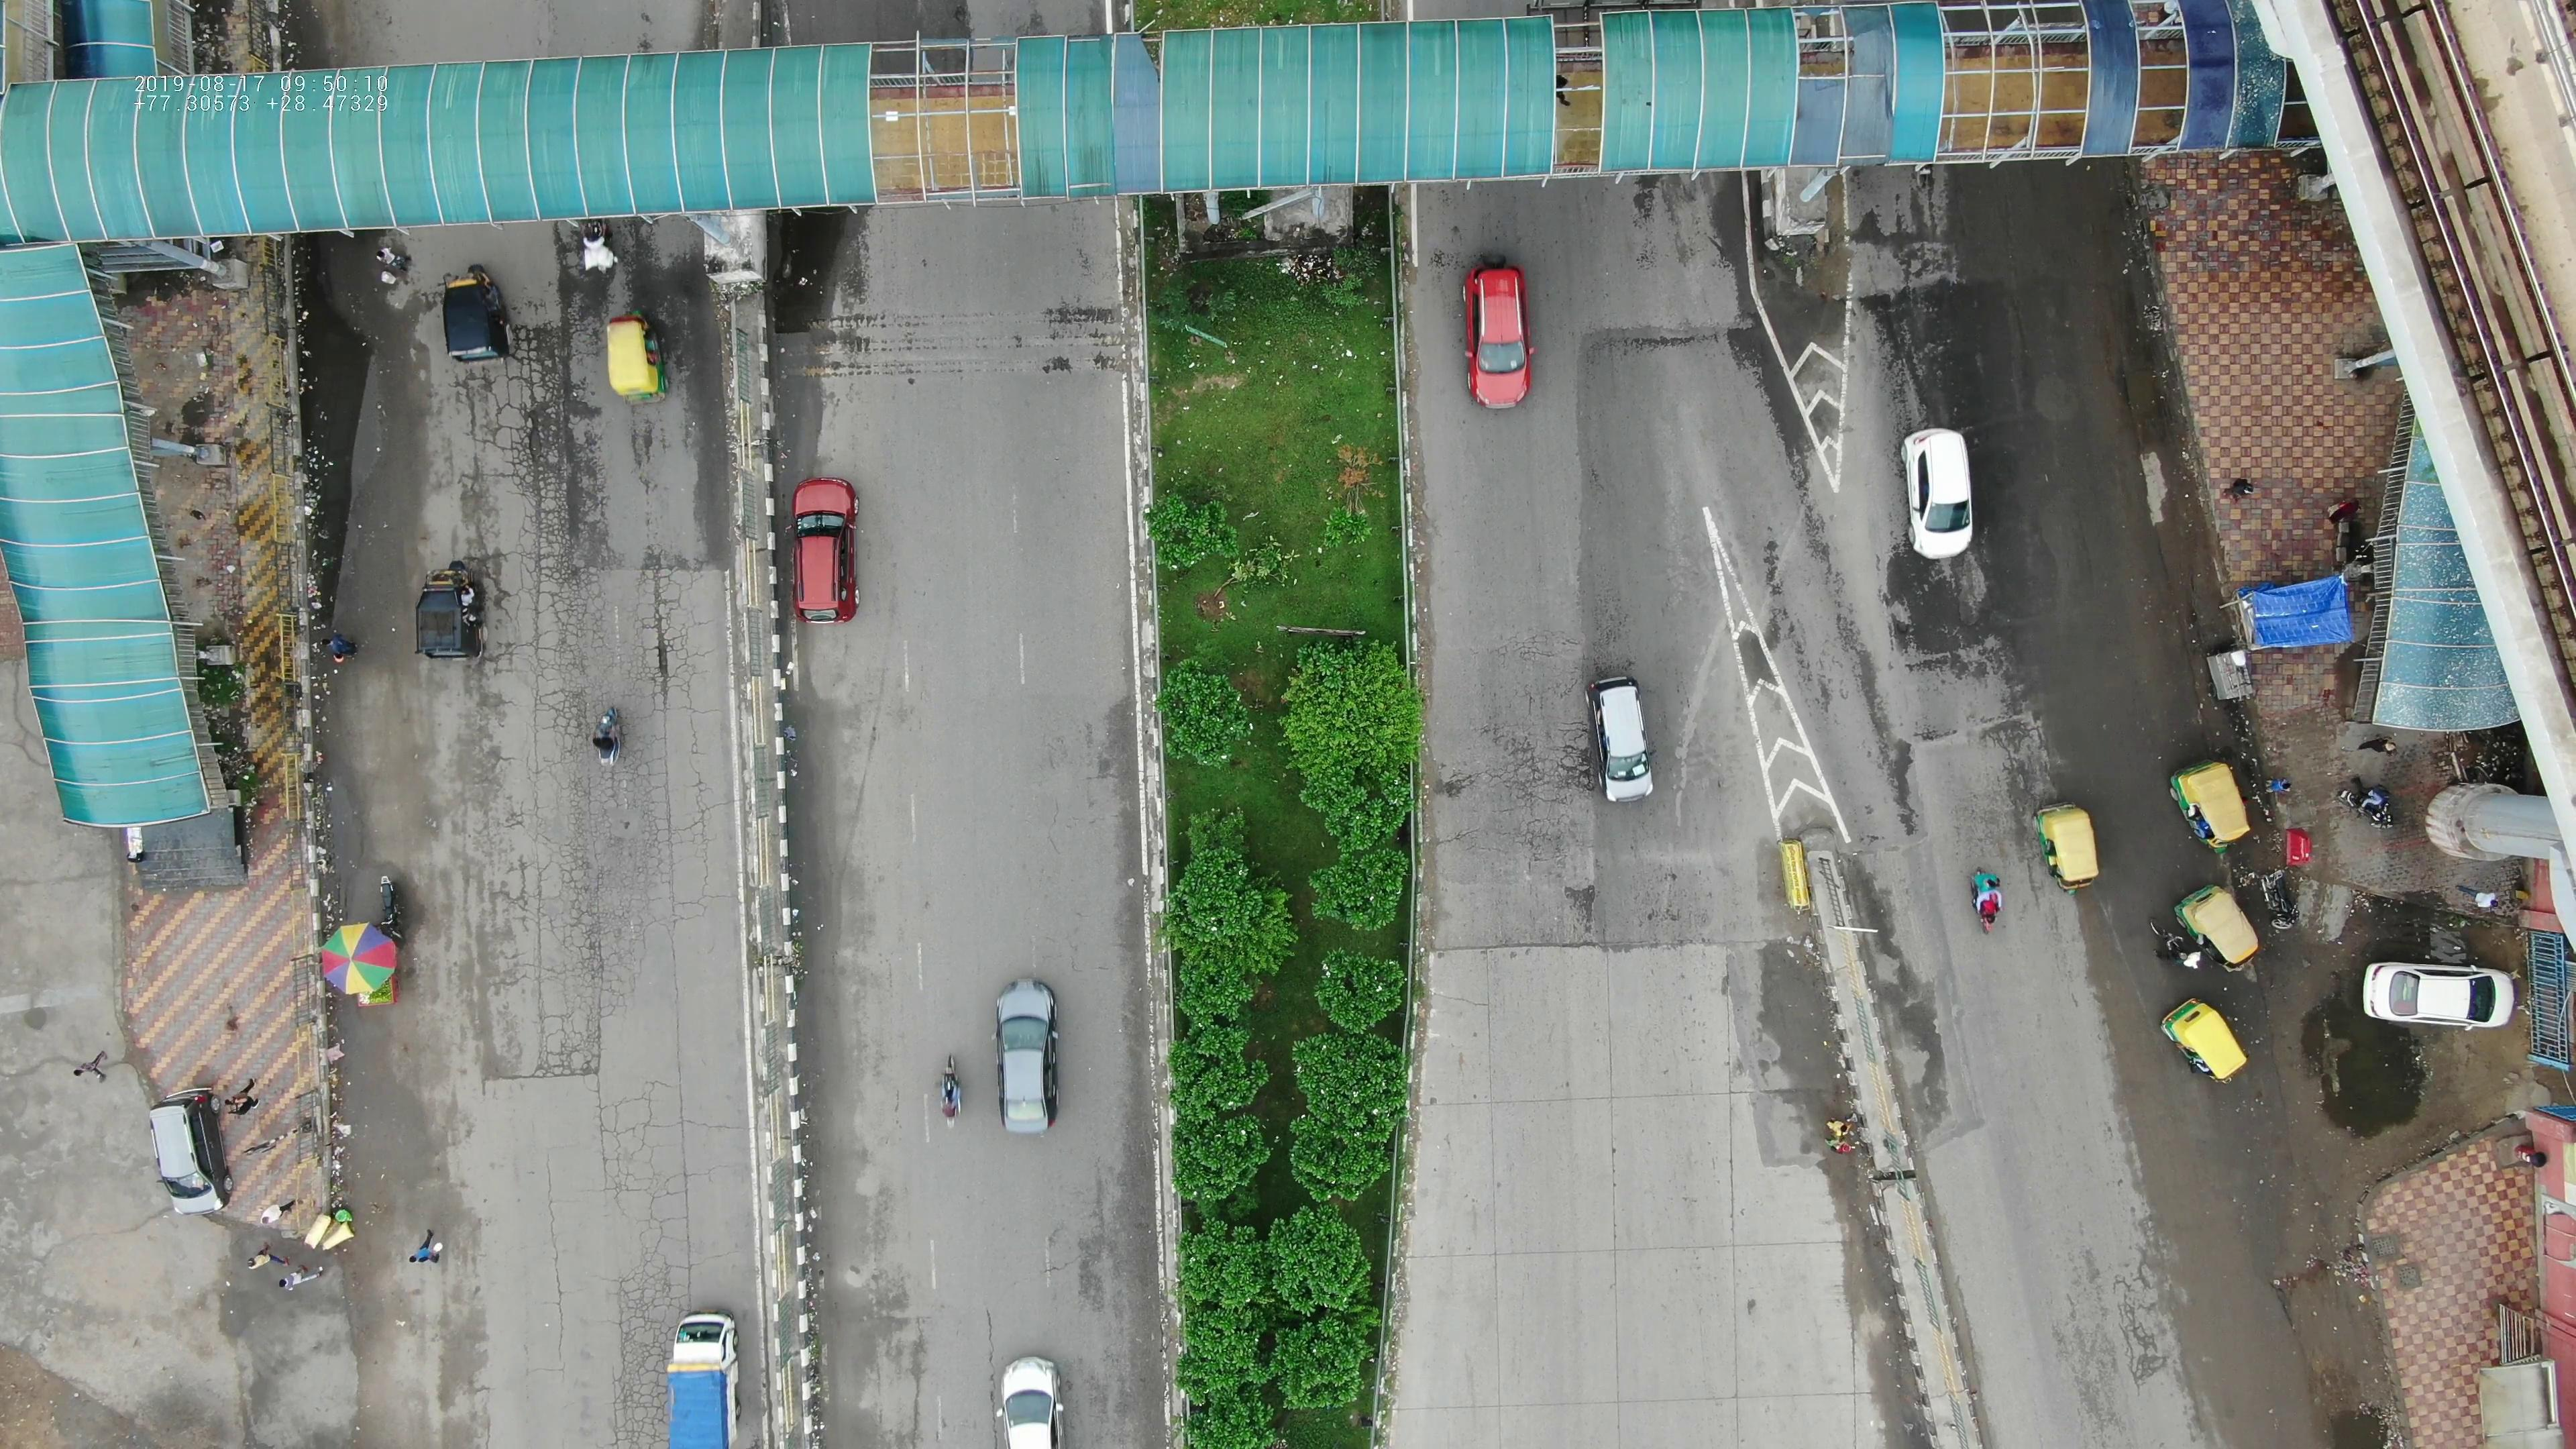Alligator_cracks: (410, 736, 580, 1063), (1445, 628, 1591, 913), (541, 1079, 702, 1292), (591, 773, 724, 1019), (453, 375, 586, 552), (2022, 1274, 2183, 1391), (541, 1299, 669, 1445), (550, 584, 725, 683)
Muddy_road: (2065, 195, 2192, 428), (2128, 456, 2226, 640)
